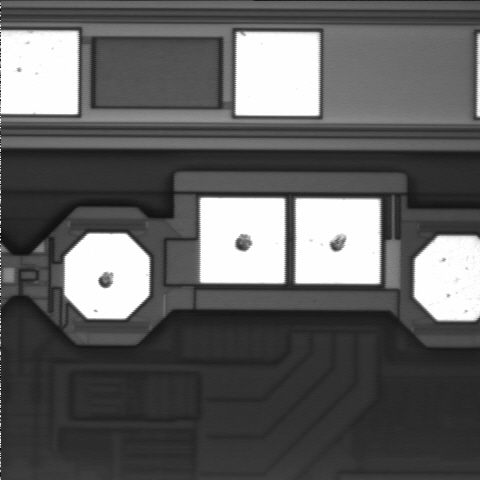pad: (200, 198, 285, 283), (296, 198, 380, 284), (65, 234, 149, 319), (236, 32, 319, 116)
